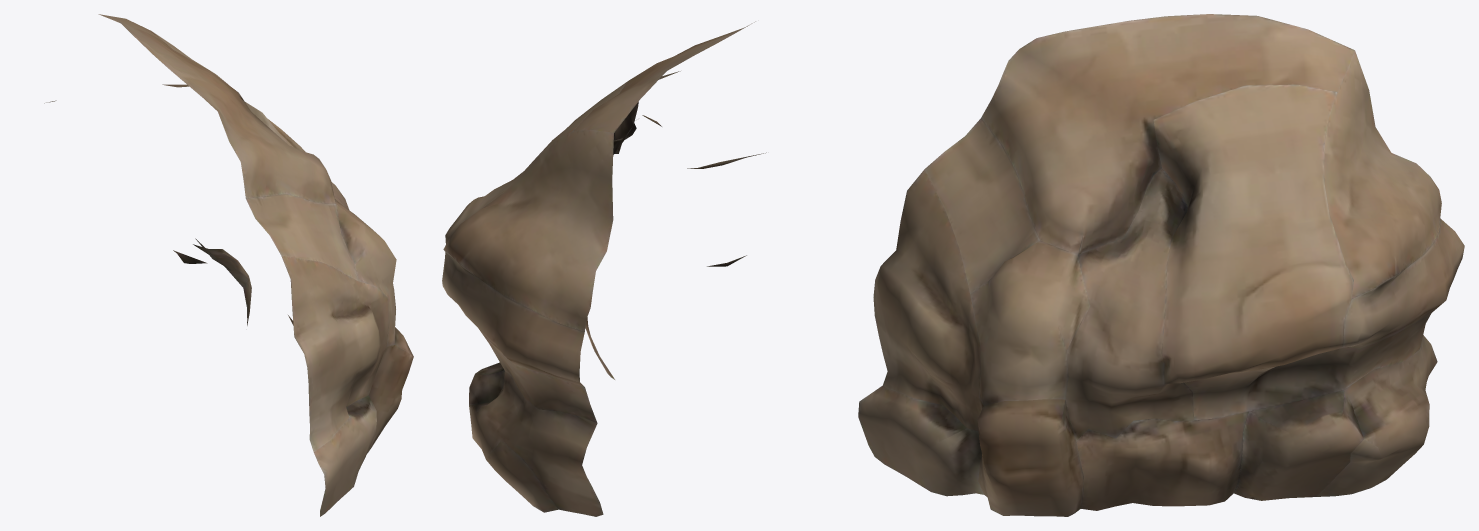
3 views of the same model, side by side, from view 1: azimuth 30°, elevation 25°; view 2: azimuth 150°, elevation 25°; view 3: azimuth 270°, elevation 25° (orthographic). The views are drawn at different scales.
Visible parts, largest first — view 1: body0_model0_lod0_mesh0; view 2: body0_model0_lod0_mesh0; view 3: body0_model0_lod0_mesh0.
Part boxes in pixels (x1,y1,x2,y2): body0_model0_lod0_mesh0: [44, 14, 413, 516]; body0_model0_lod0_mesh0: [442, 21, 766, 516]; body0_model0_lod0_mesh0: [858, 14, 1464, 516].
Bounding box in the file's own units: 190 × 328 × 421.
1 material, 1 textured.
